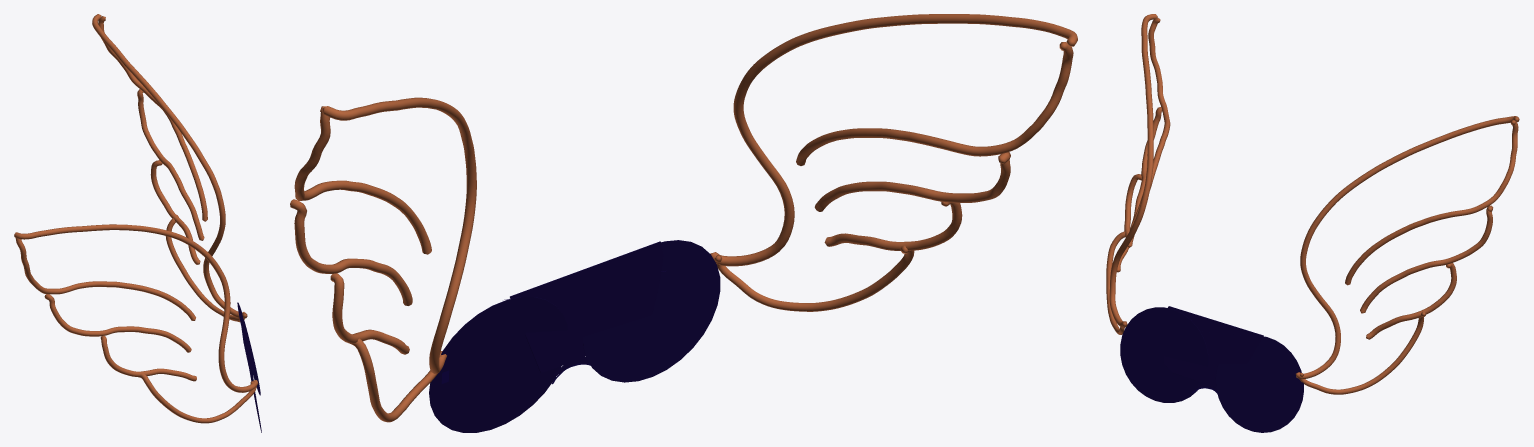
The picture shows the model from 3 angles, left to right: view 1: azimuth 30°, elevation 25°; view 2: azimuth 150°, elevation 25°; view 3: azimuth 270°, elevation 25°; orthographic projection. The views are drawn at different scales.
Parts seen in each view (by area): view 1: brush_Icing_g1_b0, brush_UnlitHull_g1_b0; view 2: brush_UnlitHull_g1_b0, brush_Icing_g1_b0; view 3: brush_UnlitHull_g1_b0, brush_Icing_g1_b0.
Boxes of the visible parts, x1=… form: brush_Icing_g1_b0: x1=14, y1=14, x2=258, y2=423; brush_UnlitHull_g1_b0: x1=237, y1=302, x2=261, y2=432; brush_UnlitHull_g1_b0: x1=429, y1=240, x2=720, y2=432; brush_Icing_g1_b0: x1=290, y1=14, x2=1077, y2=422; brush_UnlitHull_g1_b0: x1=1120, y1=306, x2=1303, y2=432; brush_Icing_g1_b0: x1=1106, y1=14, x2=1519, y2=394.
Bounding box in the file's own units: 4 × 3.63 × 4.56.
